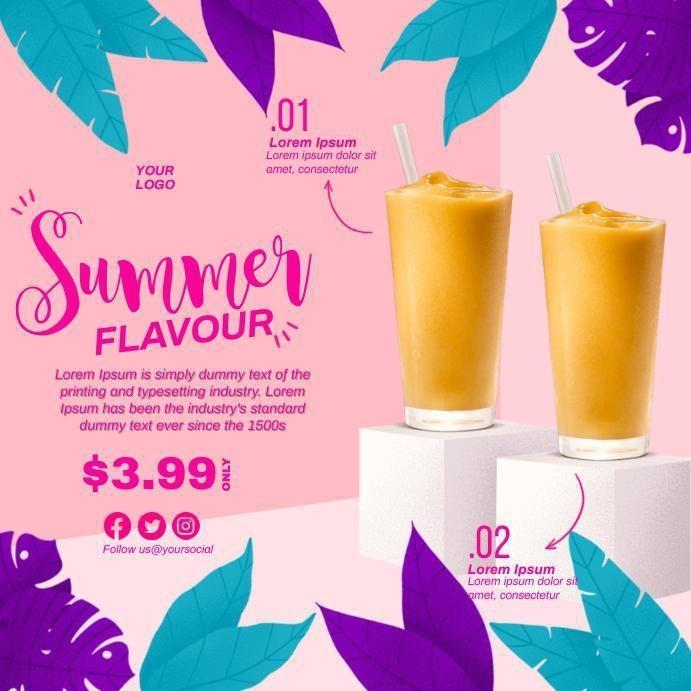glass-normal: (382, 178, 515, 432), (536, 209, 668, 461)
